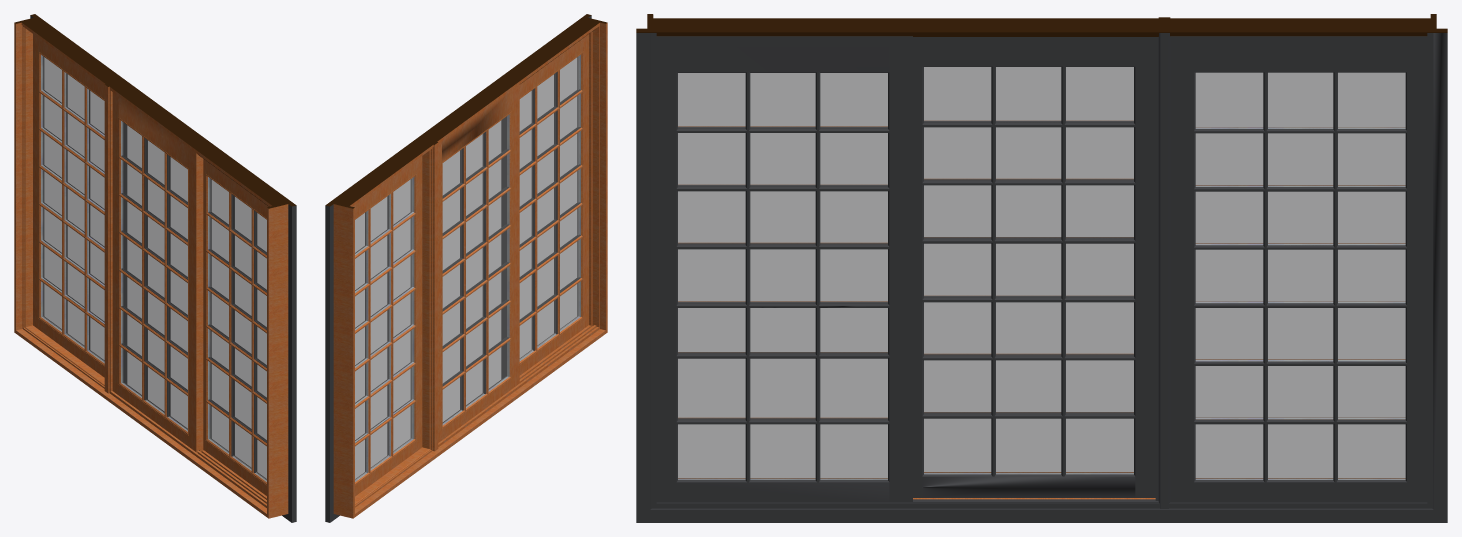
The picture shows the model from 3 angles, left to right: view 1: azimuth 30°, elevation 25°; view 2: azimuth 150°, elevation 25°; view 3: azimuth 270°, elevation 25°; orthographic projection. The views are drawn at different scales.
Visible parts, largest first — view 1: Mesh25_GAU12380_1_Model; view 2: Mesh25_GAU12380_1_Model; view 3: Mesh25_GAU12380_1_Model.
Boxes of the visible parts, left/top/right/bottom form: Mesh25_GAU12380_1_Model: left=14, top=14, right=296, bottom=522; Mesh25_GAU12380_1_Model: left=325, top=14, right=607, bottom=522; Mesh25_GAU12380_1_Model: left=636, top=14, right=1447, bottom=522.
Size of the model in its own units: 0.0807 by 0.9986 by 1.5.
